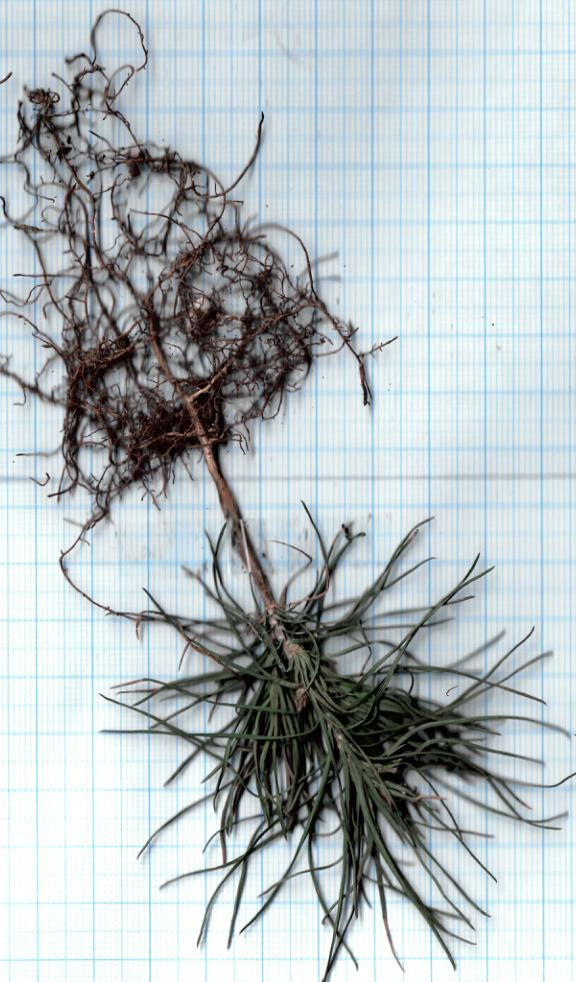flower: (89, 520, 576, 977)
root: (3, 37, 381, 499)
stem: (186, 446, 301, 647)
